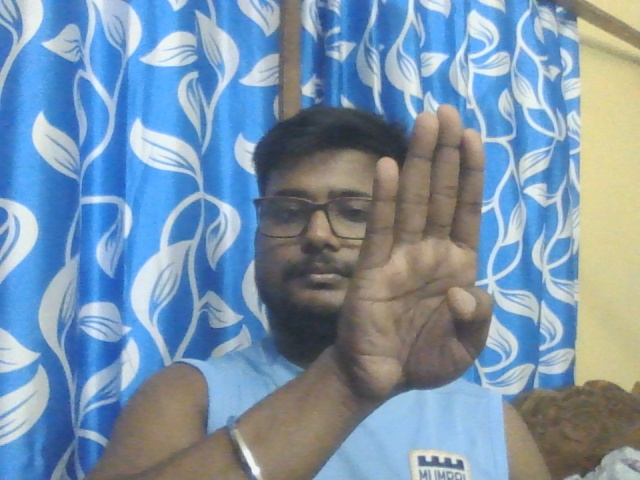B: (344, 100, 496, 399)
